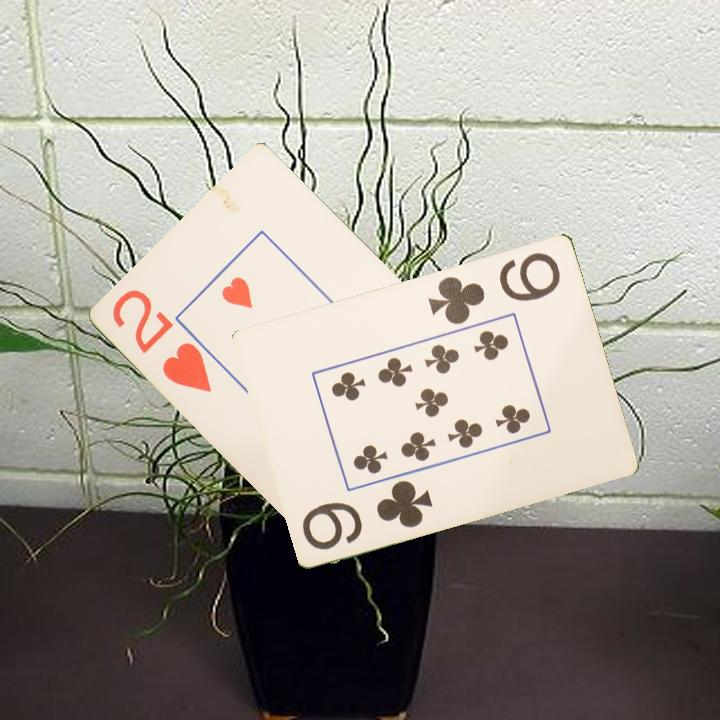2h: (109, 286, 215, 396)
9c: (425, 248, 564, 327), (299, 476, 436, 553)
